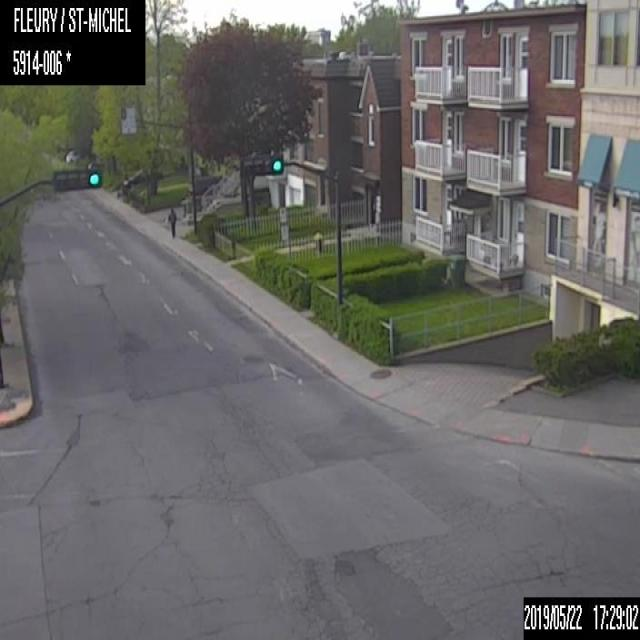pedestrian: (168, 204, 176, 239)
vehicle: (121, 168, 162, 190)
